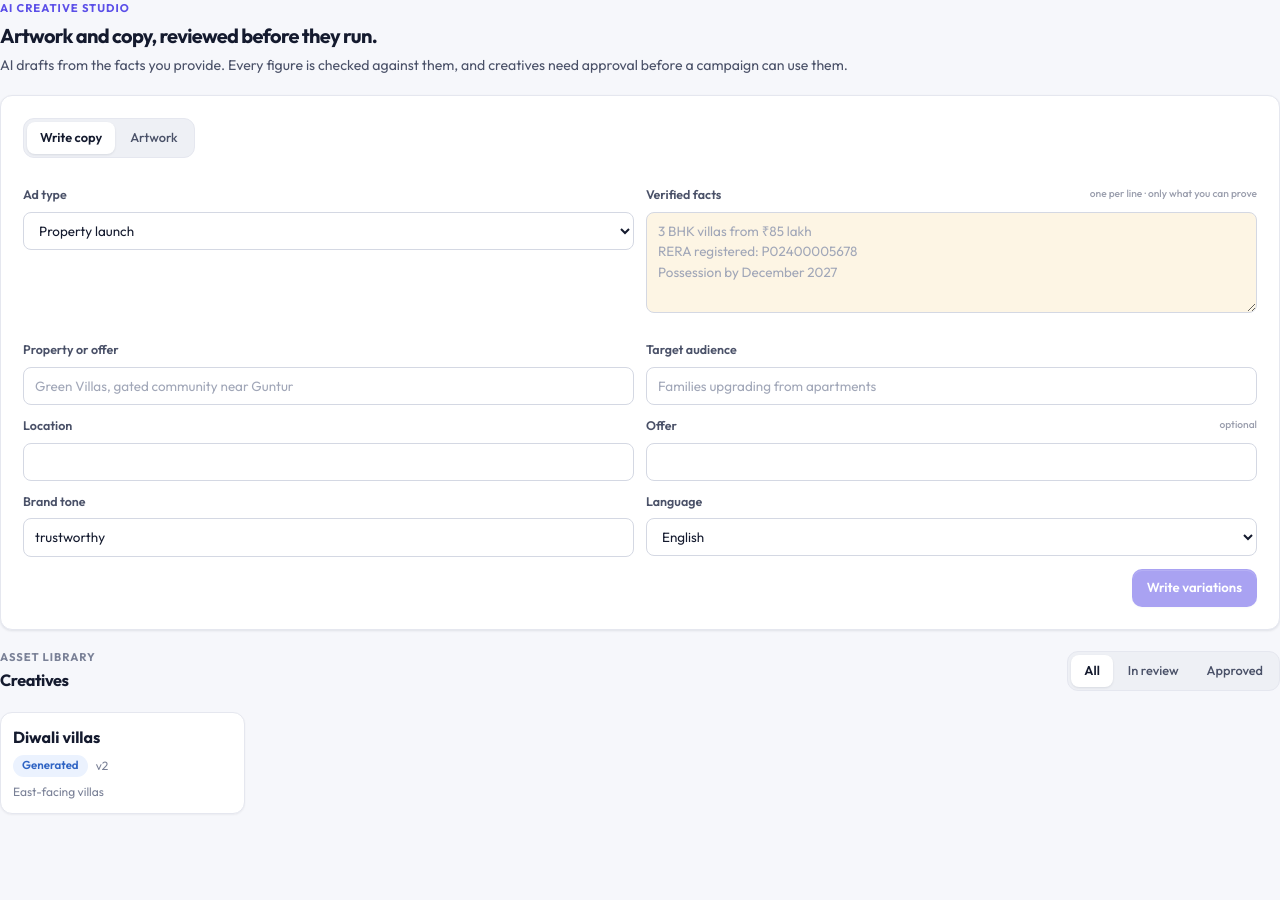
it: Creative studio › previews the ad and blocks approval while prohibited claims remain
Click the button with aria-label "Open Diwali villas" at (122, 763), box top-left (0, 712), bottom-right (245, 814)
(page scrolled)
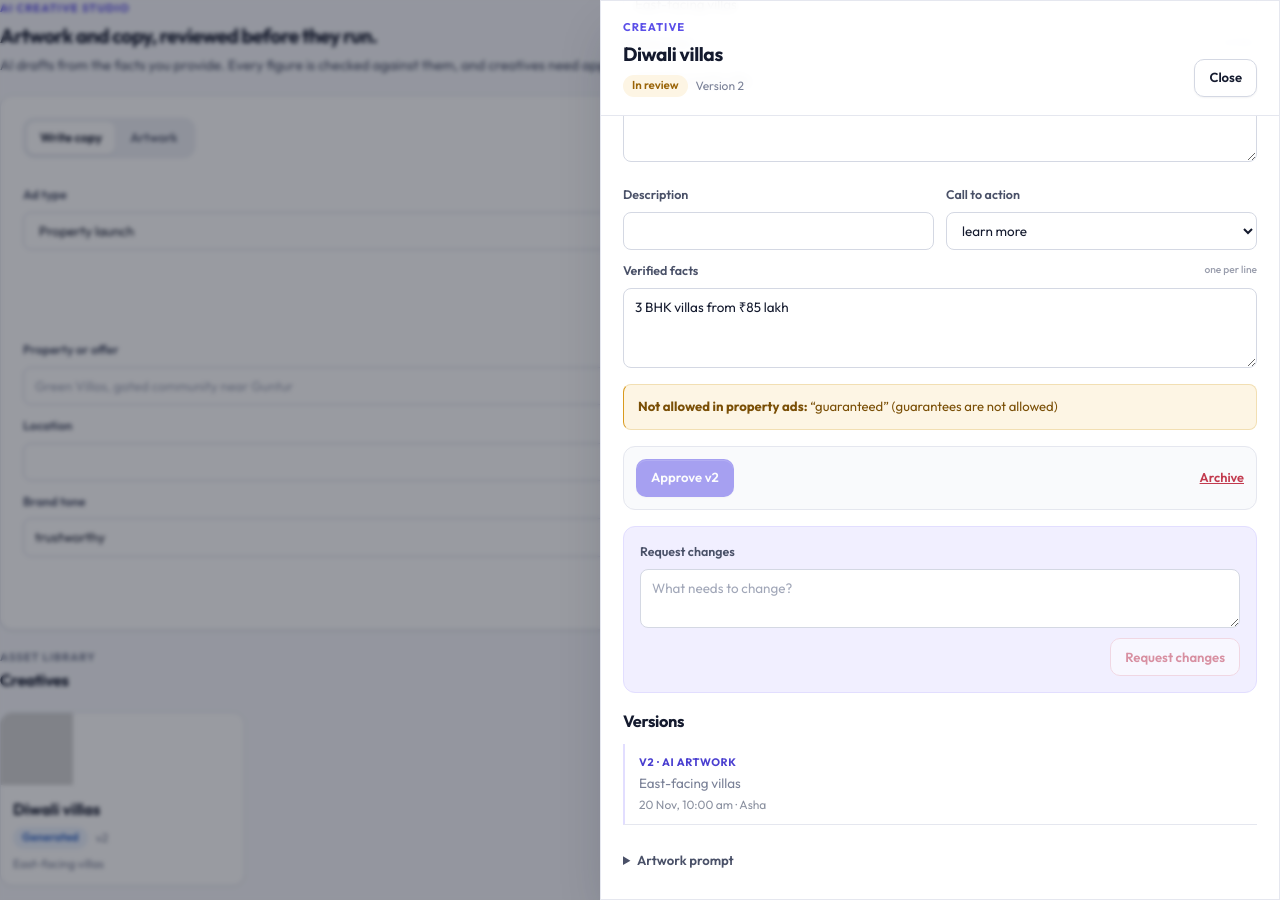
Expected: the text "Not allowed in property ads:" is shown, top-left (638, 398), bottom-right (808, 414)
Expected: the button "Approve v2" is disabled, top-left (636, 459), bottom-right (734, 497)
